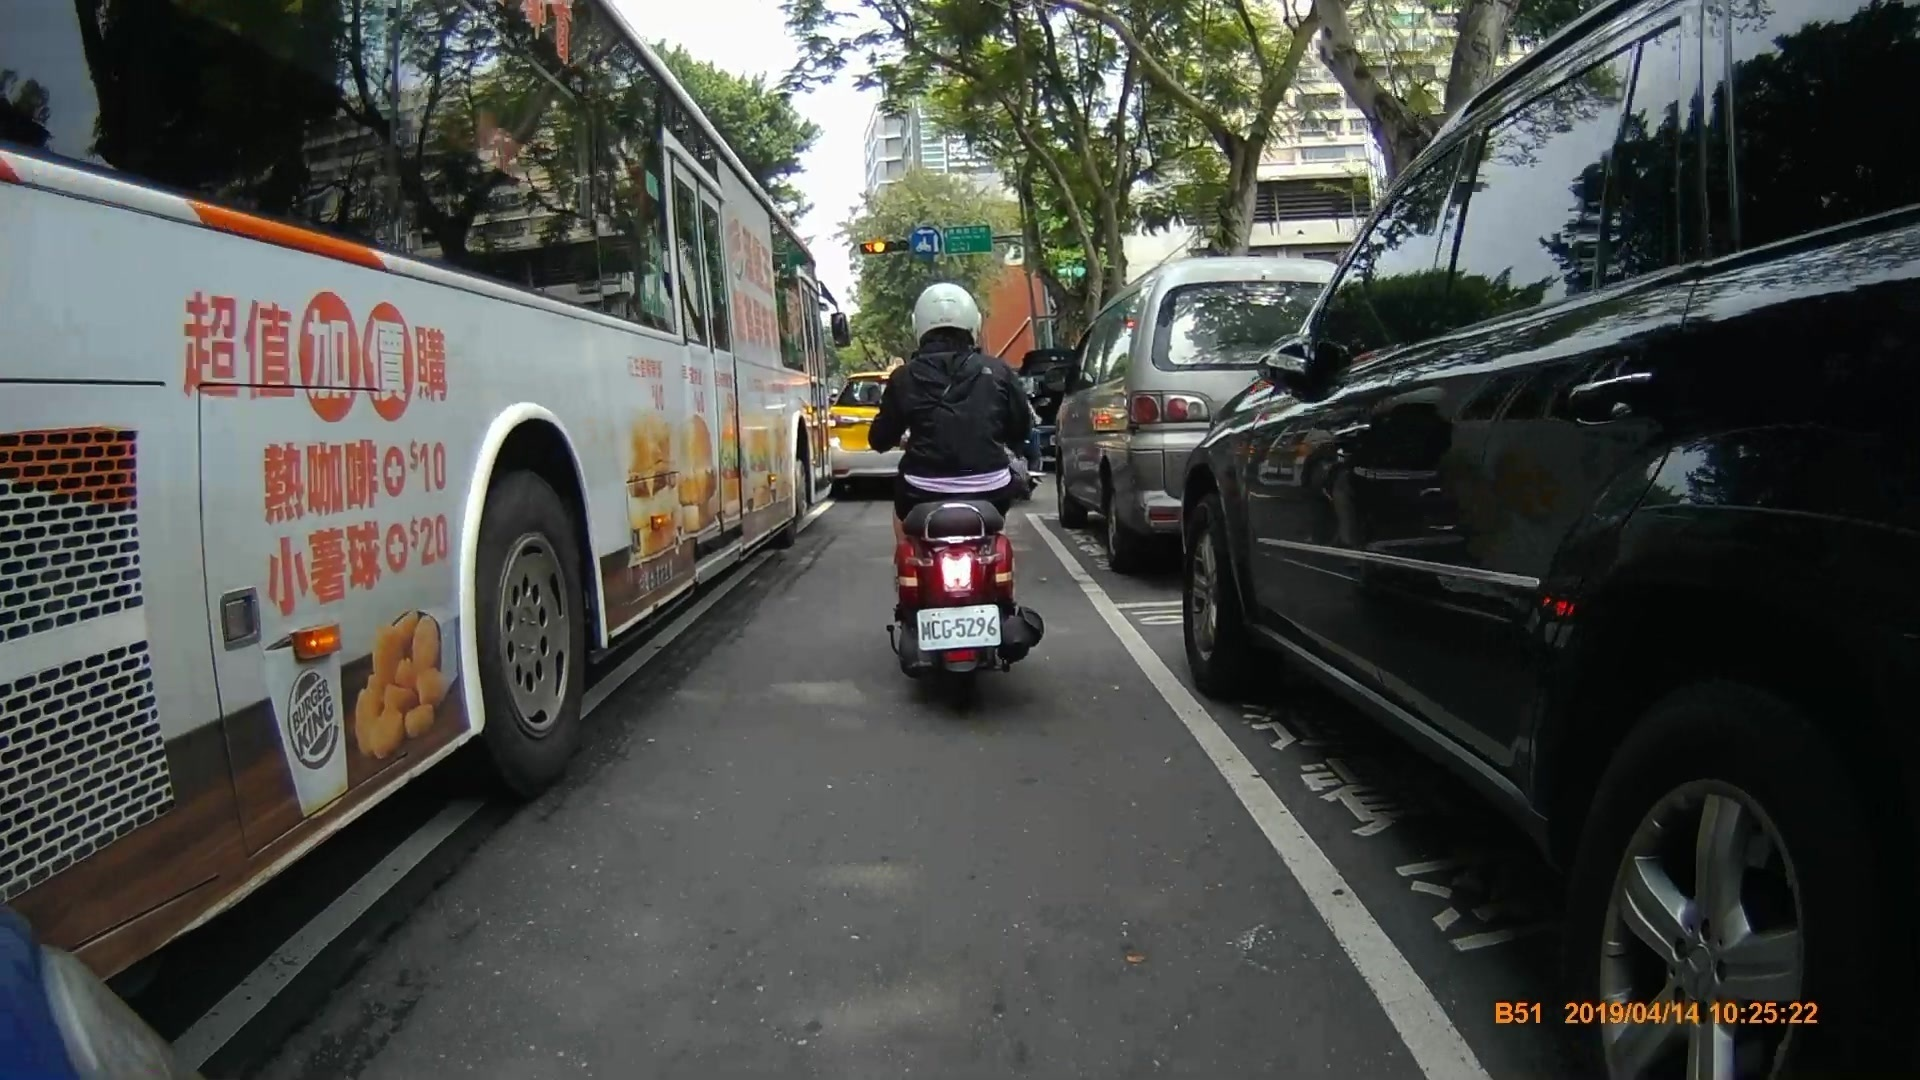License_plate: (913, 608, 999, 644)
